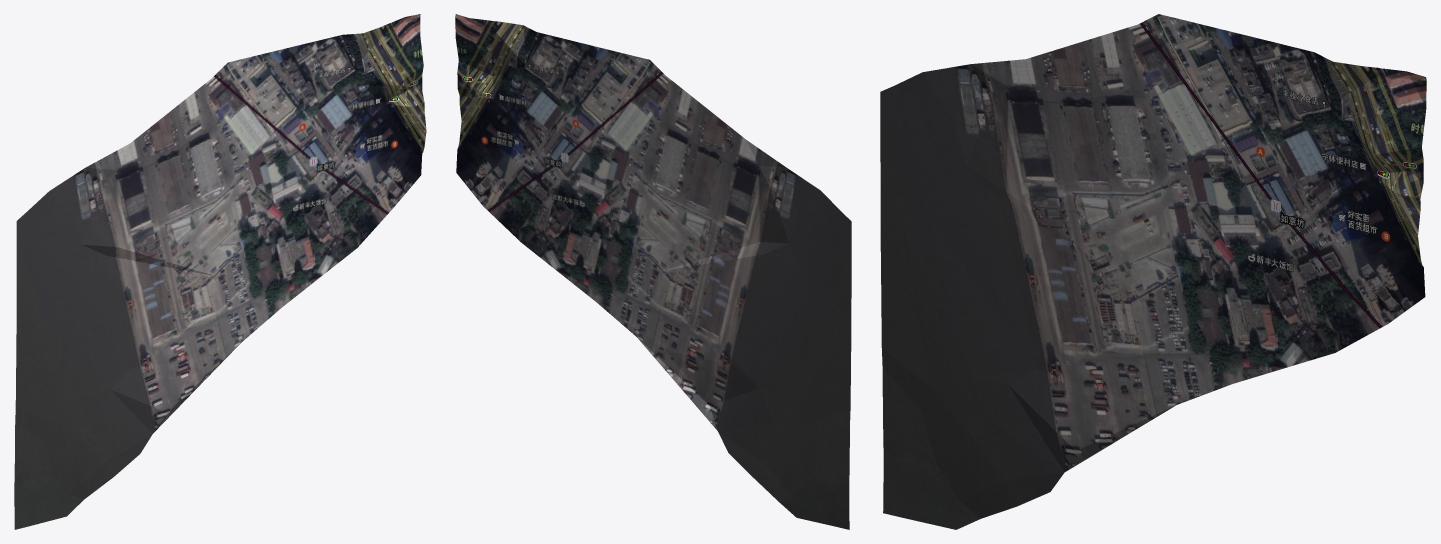
The picture shows the model from 3 angles, left to right: view 1: azimuth 30°, elevation 25°; view 2: azimuth 150°, elevation 25°; view 3: azimuth 330°, elevation 25°; orthographic projection. The views are drawn at different scales.
Visible parts, largest first — view 1: 0_3_0_0_1_0; view 2: 0_3_0_0_1_0; view 3: 0_3_0_0_1_0.
Boxes of the visible parts, x1=… form: 0_3_0_0_1_0: x1=14, y1=14, x2=426, y2=529; 0_3_0_0_1_0: x1=455, y1=14, x2=851, y2=529; 0_3_0_0_1_0: x1=880, y1=14, x2=1426, y2=529.
Size of the model in its own units: 486 by 486 by 23.5.
Materials: 1 (1 with a texture image).
